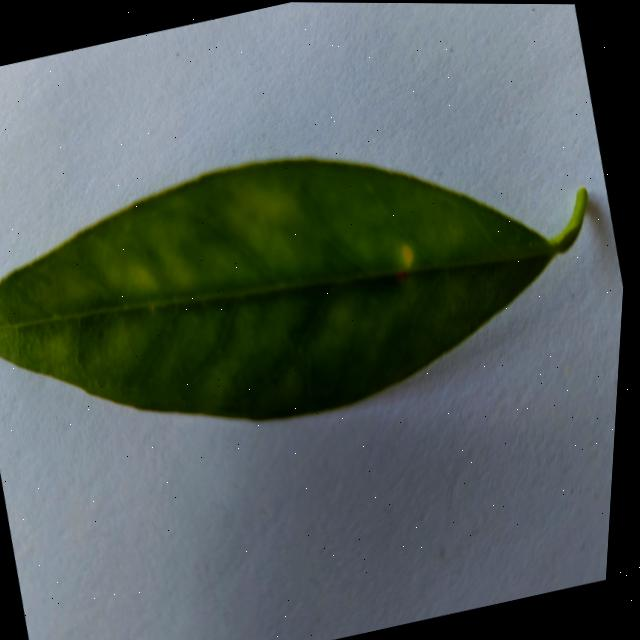greening: (0, 159, 584, 417)
